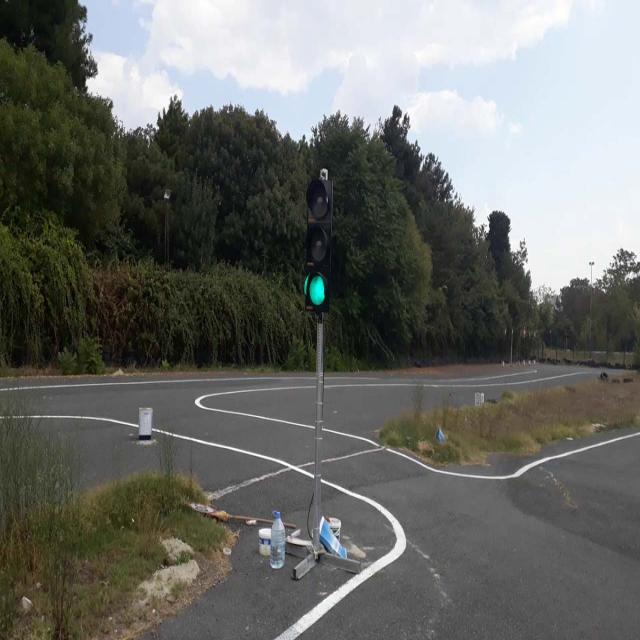yesil: (307, 180, 329, 314)
